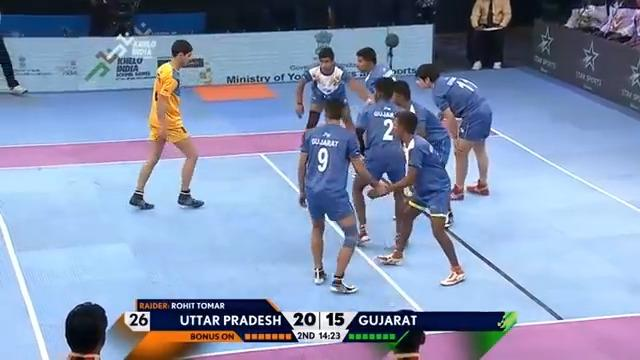Player: (372, 110, 466, 286), (296, 97, 378, 294), (414, 62, 493, 200), (352, 76, 409, 245), (390, 79, 454, 228), (294, 46, 372, 140), (64, 301, 108, 359), (354, 46, 396, 102)
Raider: (128, 38, 204, 210)
referee: (468, 0, 512, 70), (87, 0, 140, 36)
